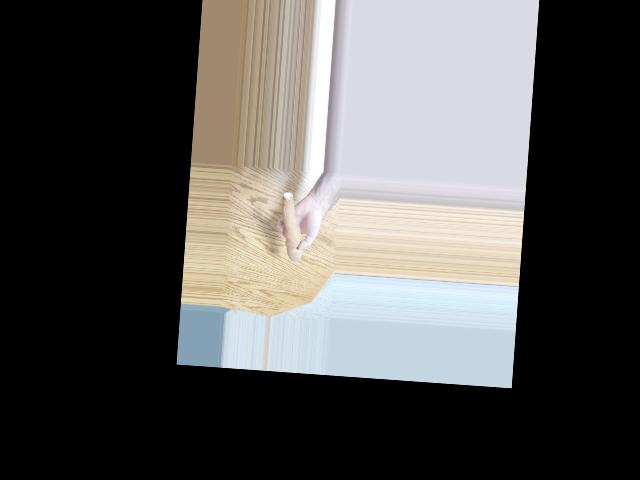sweet_potato: (279, 189, 302, 265)
